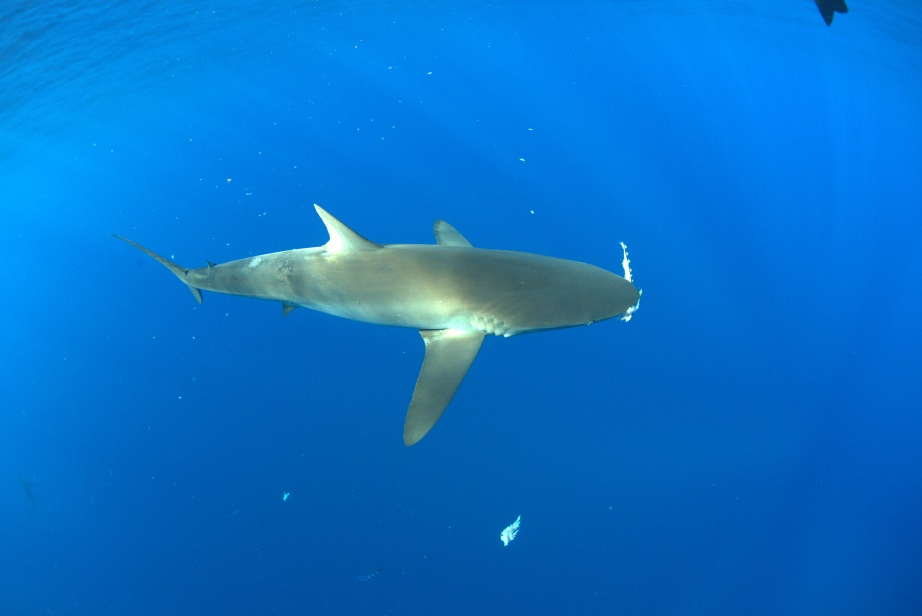Sedoso: (79, 200, 648, 453)
